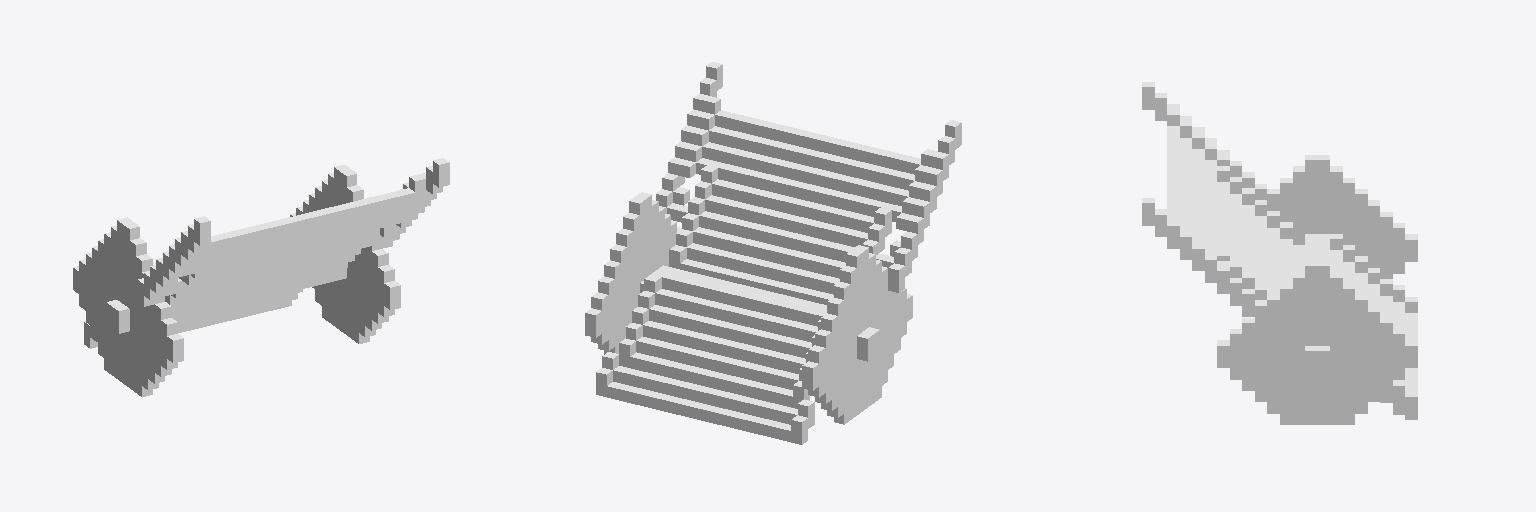
Rendered from Ramp-0-Ramp.obj.
The picture shows the model from 3 angles: view 1: azimuth 30°, elevation 25°; view 2: azimuth 150°, elevation 25°; view 3: azimuth 270°, elevation 25°; orthographic projection.
Parts seen in each view (by area): view 1: Ramp; view 2: Ramp; view 3: Ramp.
Part boxes in pixels (x1,y1,x2,y2): Ramp: (73, 158, 449, 396); Ramp: (585, 62, 961, 444); Ramp: (1142, 82, 1417, 424).
Bounding box in the file's own units: 2.3 × 2 × 2.2.